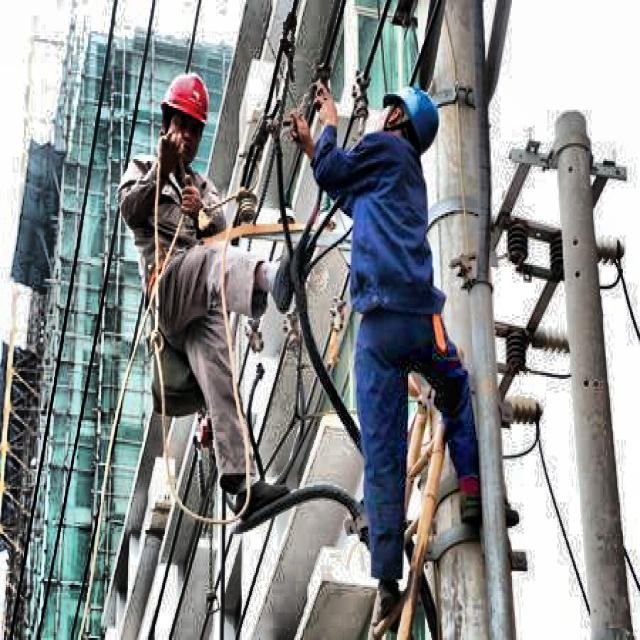helmet: (156, 63, 215, 171), (377, 86, 444, 159)
